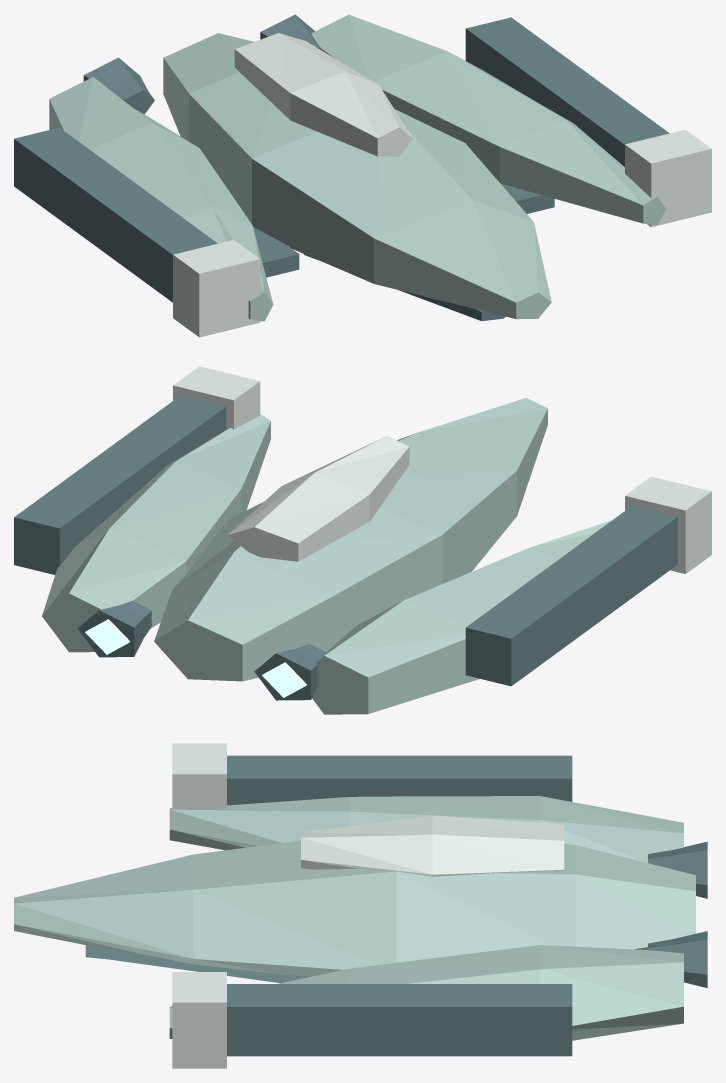
3 renders of one model, top to bottom at view 1: azimuth 30°, elevation 25°; view 2: azimuth 150°, elevation 25°; view 3: azimuth 270°, elevation 25°, orthographic. The views are drawn at different scales.
Bounding box in the file's own units: 13.49 × 3.6 × 15.36.
